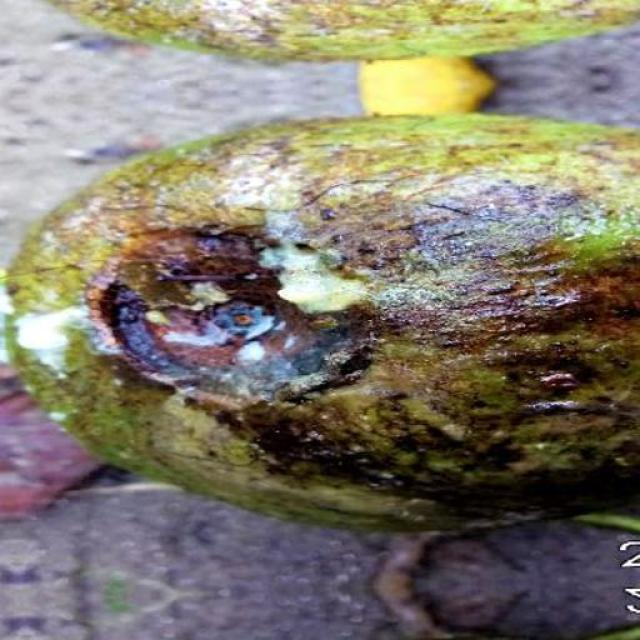Phytopthora: (6, 114, 640, 529), (52, 1, 640, 60)
